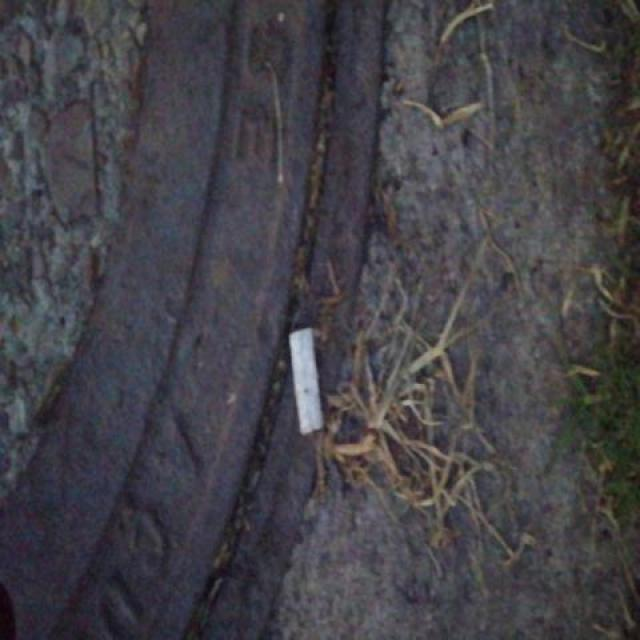non-organic waste: (282, 318, 329, 441)
